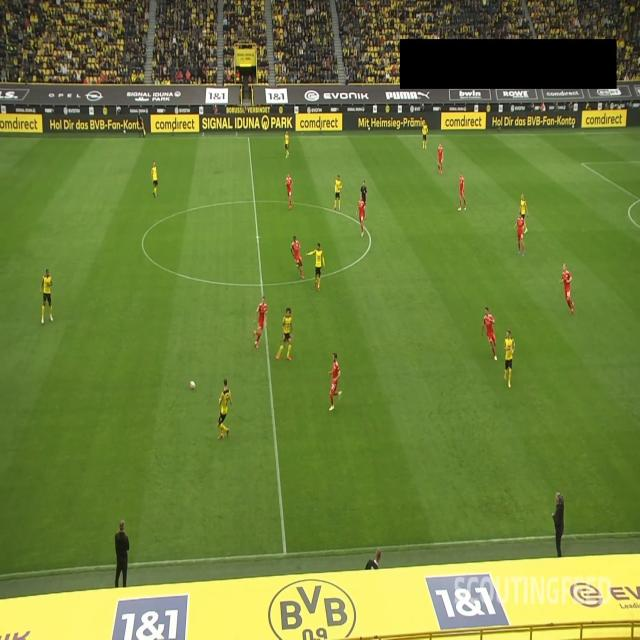ball: (189, 379, 196, 391)
